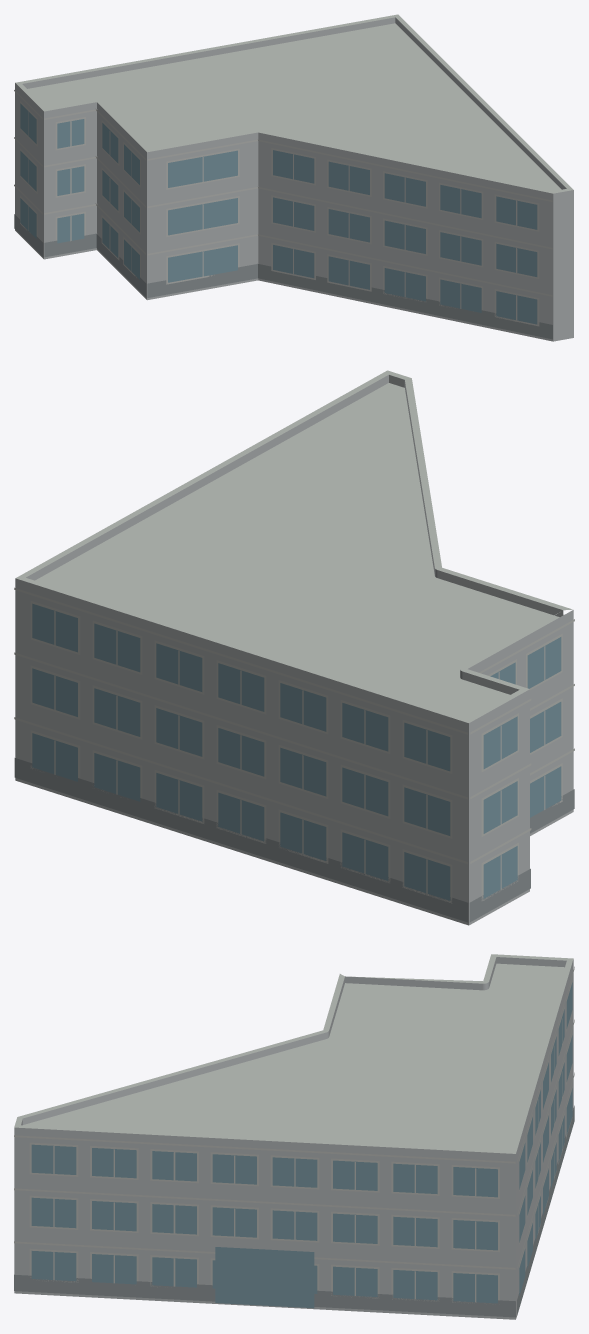
The model's file is public-06855443-7d19-4d60-85f3-13f6044689f0.glb.
The picture shows the model from 3 angles, top to bottom: view 1: azimuth 30°, elevation 25°; view 2: azimuth 150°, elevation 25°; view 3: azimuth 270°, elevation 25°; orthographic projection. The views are drawn at different scales.
Visible parts, largest first — view 1: public-06855443-7d19-4d60-85f3-13f6044689f0; view 2: public-06855443-7d19-4d60-85f3-13f6044689f0; view 3: public-06855443-7d19-4d60-85f3-13f6044689f0.
Part boxes in pixels (x1,y1,x2,y2): public-06855443-7d19-4d60-85f3-13f6044689f0: [14, 14, 573, 341]; public-06855443-7d19-4d60-85f3-13f6044689f0: [14, 370, 574, 925]; public-06855443-7d19-4d60-85f3-13f6044689f0: [14, 954, 574, 1319].
Bounding box in the file's own units: 23.79 × 9.15 × 28.05.
